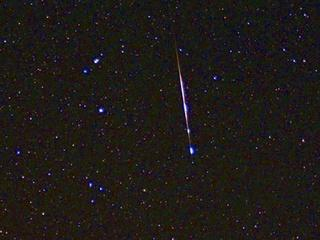meteorite: (165, 41, 207, 153)
